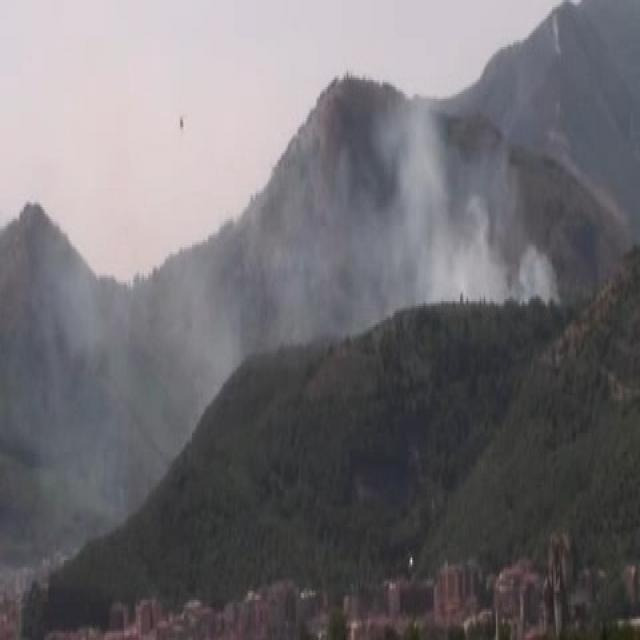smoke: (332, 100, 547, 310)
